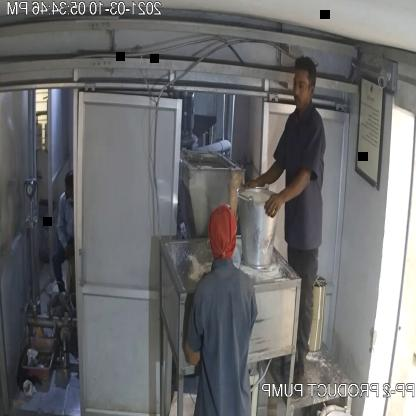no_glove: (264, 160, 318, 230), (245, 155, 286, 199)
